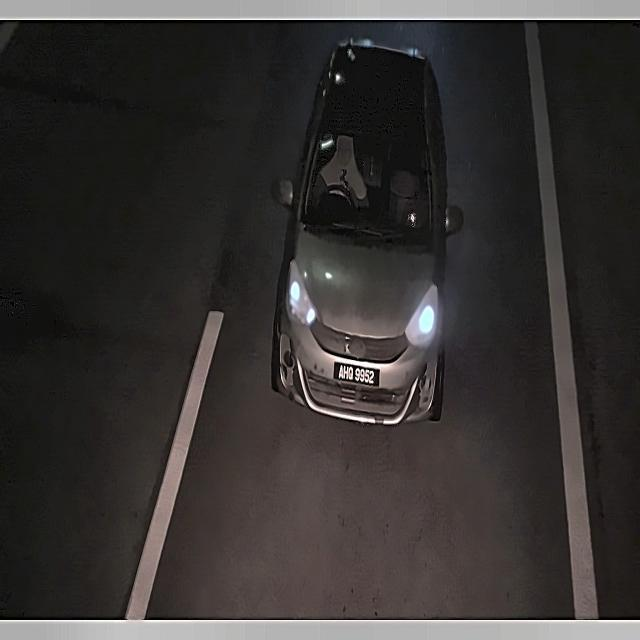car: (330, 353, 386, 395)
